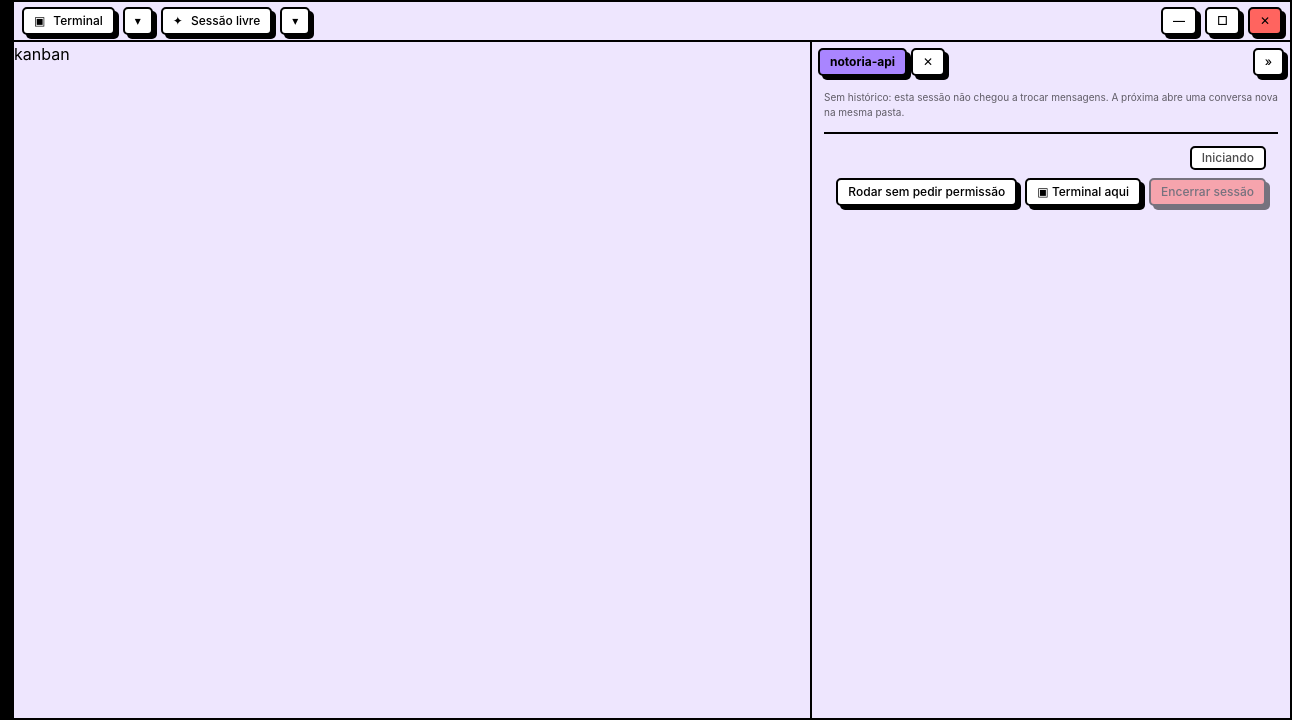
Test: #111 — recolher o painel por clique › CA-1: o » recolhe o painel sem esquecer nenhuma sessão
This screenshot has width=1292, height=720.
Click the button with test id "side-collapse" at (1268, 62), box [1253,48,1284,76]
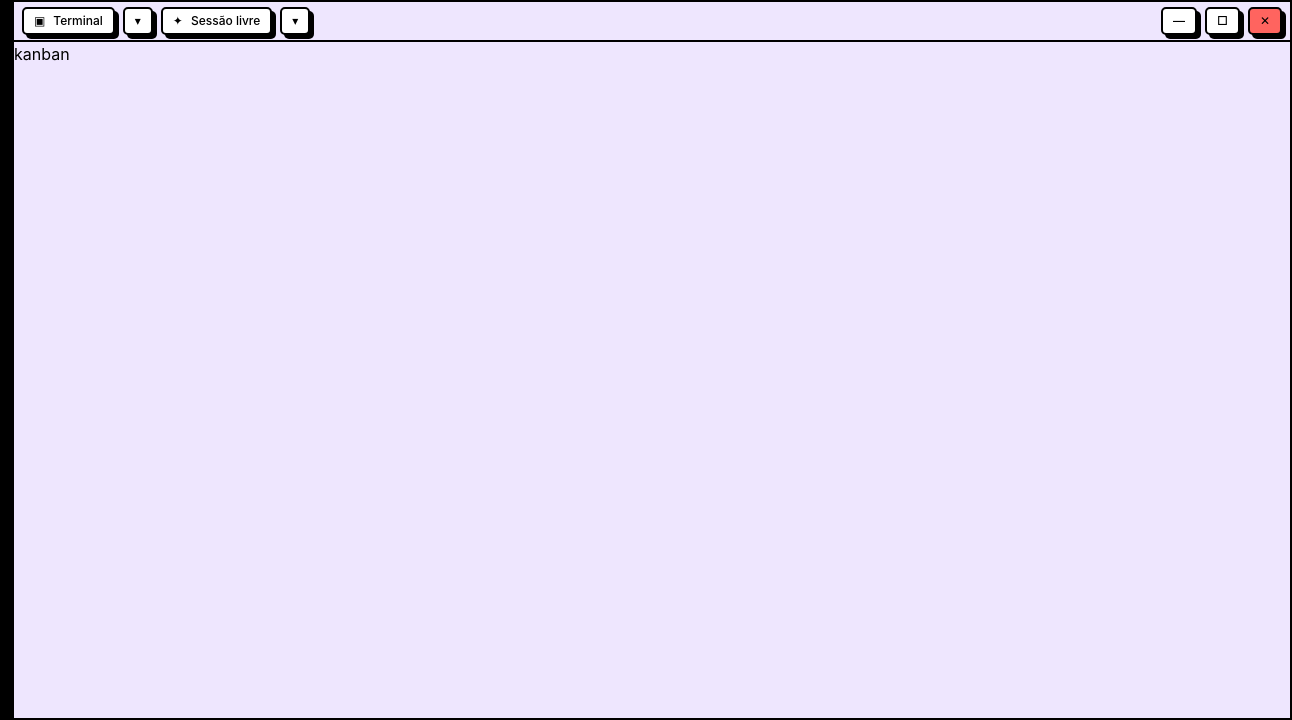
Check: the element with test id "side-panel" is gone
